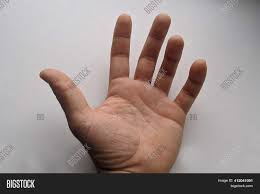palm: (39, 13, 208, 173)
